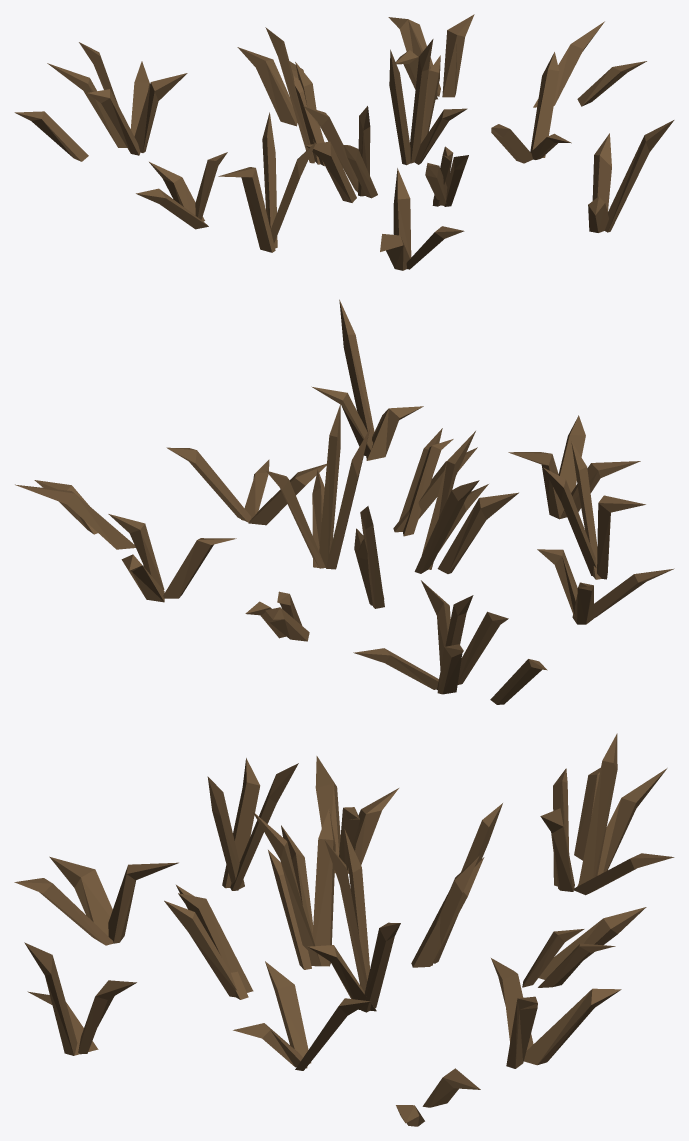
The model's file is SM_Env_Plant_Grass_Patch_01.glb.
3 renders of one model, top to bottom at view 1: azimuth 30°, elevation 25°; view 2: azimuth 150°, elevation 25°; view 3: azimuth 270°, elevation 25°, orthographic. The views are drawn at different scales.
Visible parts, largest first — view 1: SM_Env_Plant_Grass_Patch_01; view 2: SM_Env_Plant_Grass_Patch_01; view 3: SM_Env_Plant_Grass_Patch_01.
Part boxes in pixels (x1=…): SM_Env_Plant_Grass_Patch_01: x1=14, y1=14, x2=674, y2=270; SM_Env_Plant_Grass_Patch_01: x1=15, y1=299, x2=674, y2=704; SM_Env_Plant_Grass_Patch_01: x1=14, y1=733, x2=674, y2=1126.
Size of the model in its own units: 309 by 72.56 by 257.
Materials: 1 (1 with a texture image).
